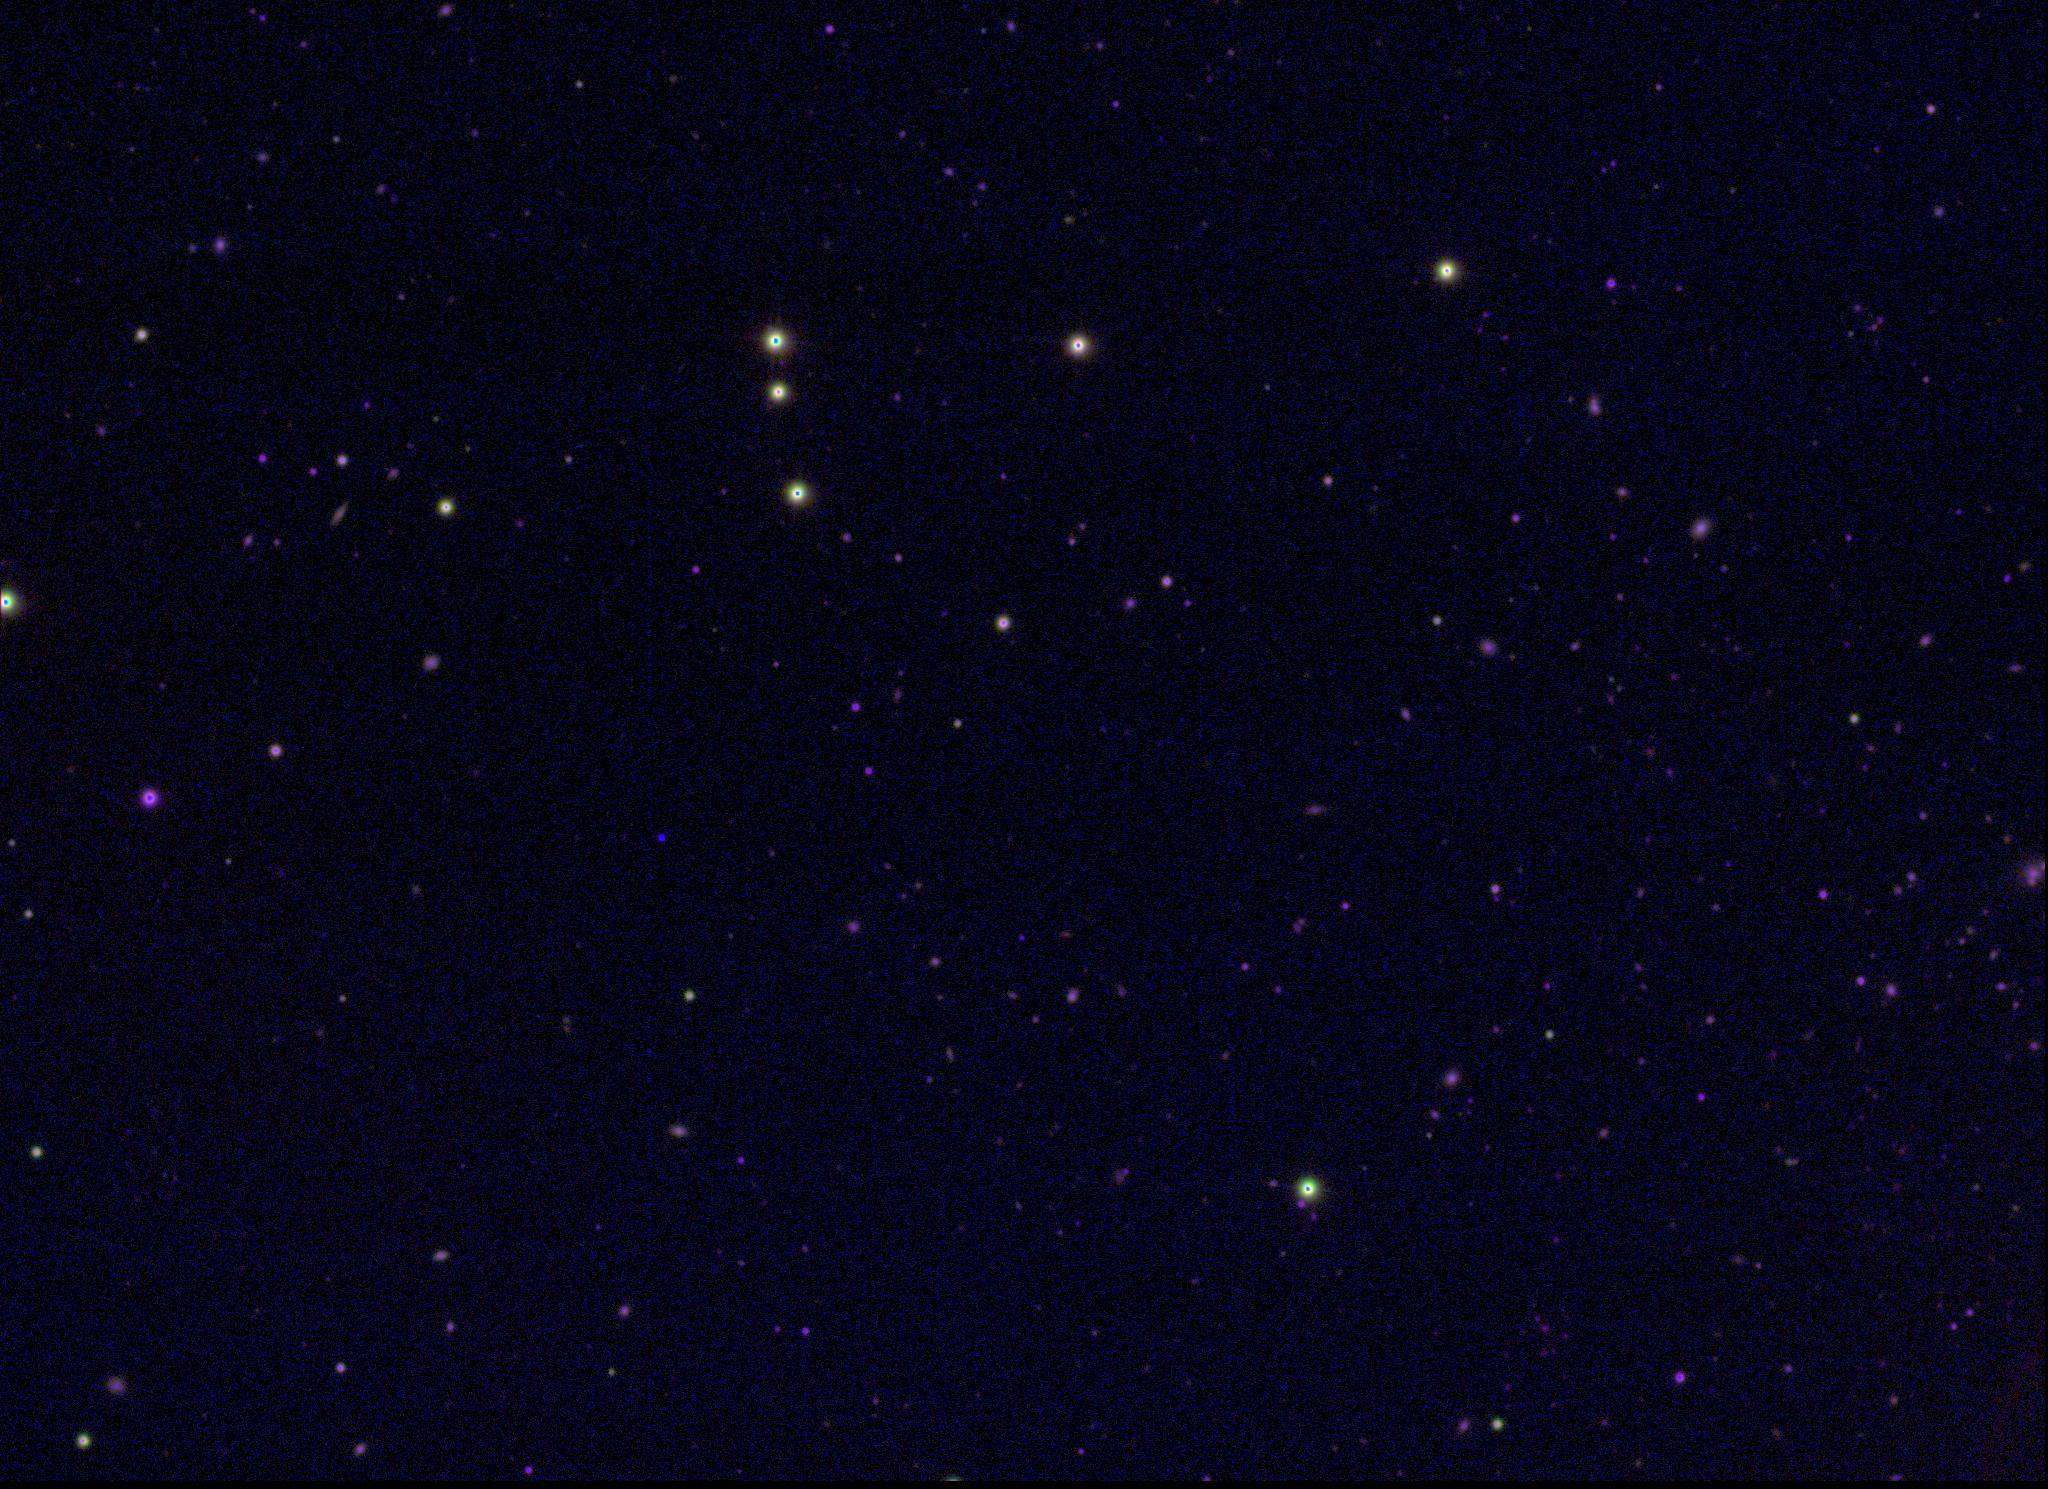L: (654, 835, 666, 849)
